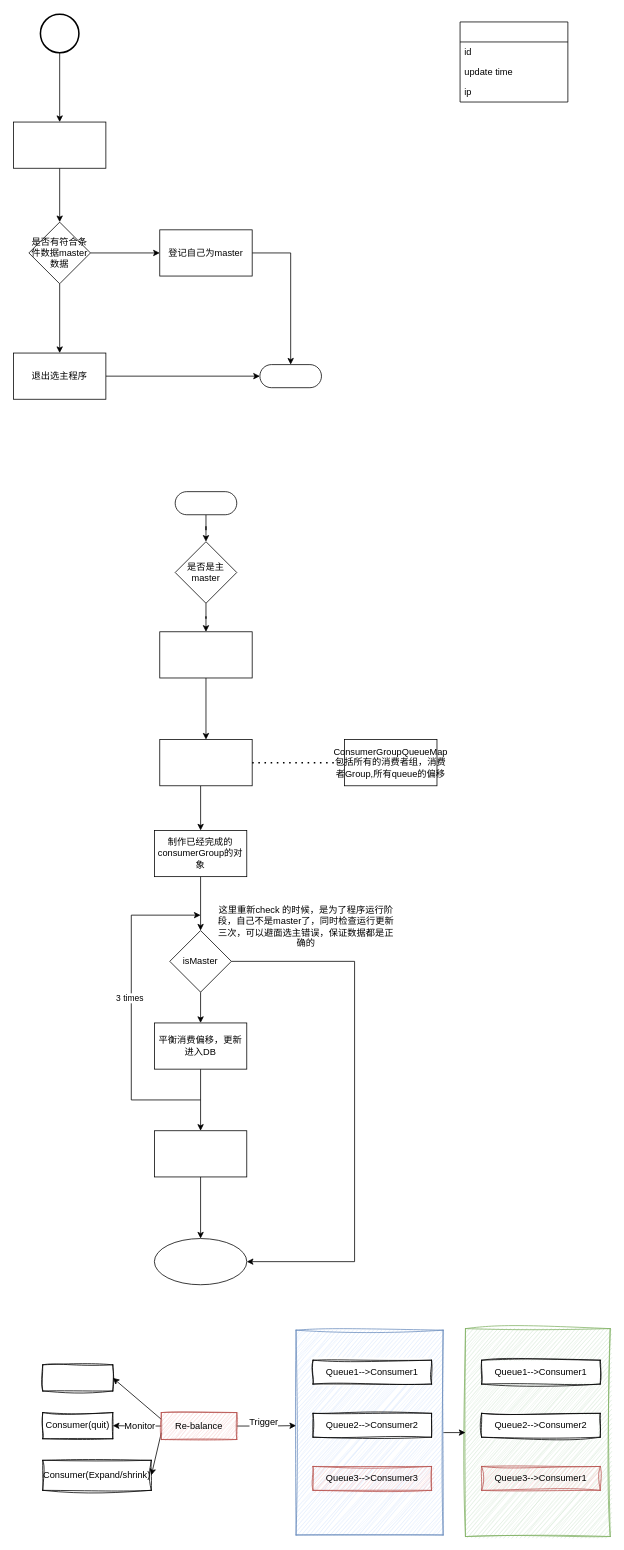
Image size: 624x1550. Some labels were removed from this diagram. The box of each missing label's shape, as (x1, y1, x2, y2) in pixels:
After: (465, 1328, 610, 1537)
Before: (295, 1329, 443, 1535)
Consumer (New): (42, 1364, 113, 1391)
mq_msg: (459, 21, 568, 102)
删除废弃consumer: (154, 1130, 247, 1177)
制作ConsumerGrouopQueue Map: (159, 739, 252, 786)
获取没有重平衡的所有consumerGroup和consumerEntity: (159, 631, 252, 678)
读取Mq_msg 的信息: (13, 121, 106, 168)
